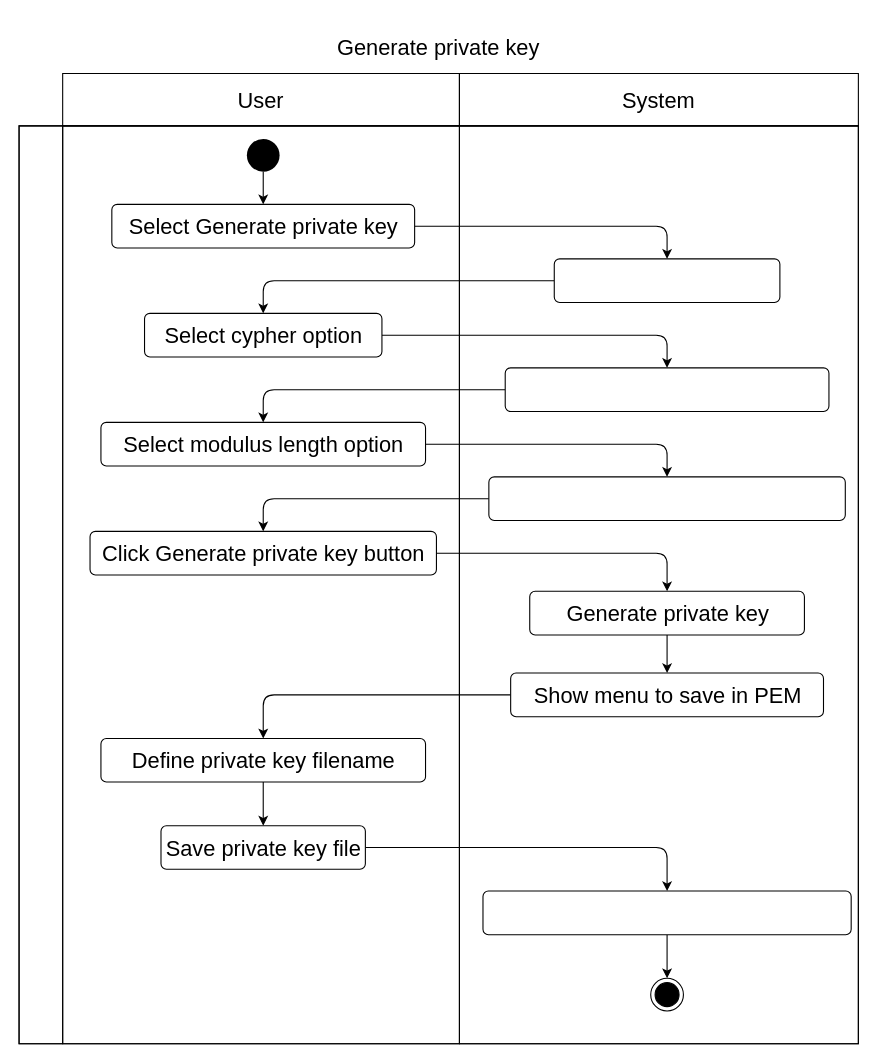
Some shapes in this 877 by 1063 pixel diagram are drawn without their labels. Each missing label, with the box of its shape:
Load cypher options: (553, 258, 780, 302)
Load modulus length options: (504, 367, 829, 411)
Show Generate private key button: (488, 476, 845, 520)
Show private key generated message: (482, 890, 851, 935)
